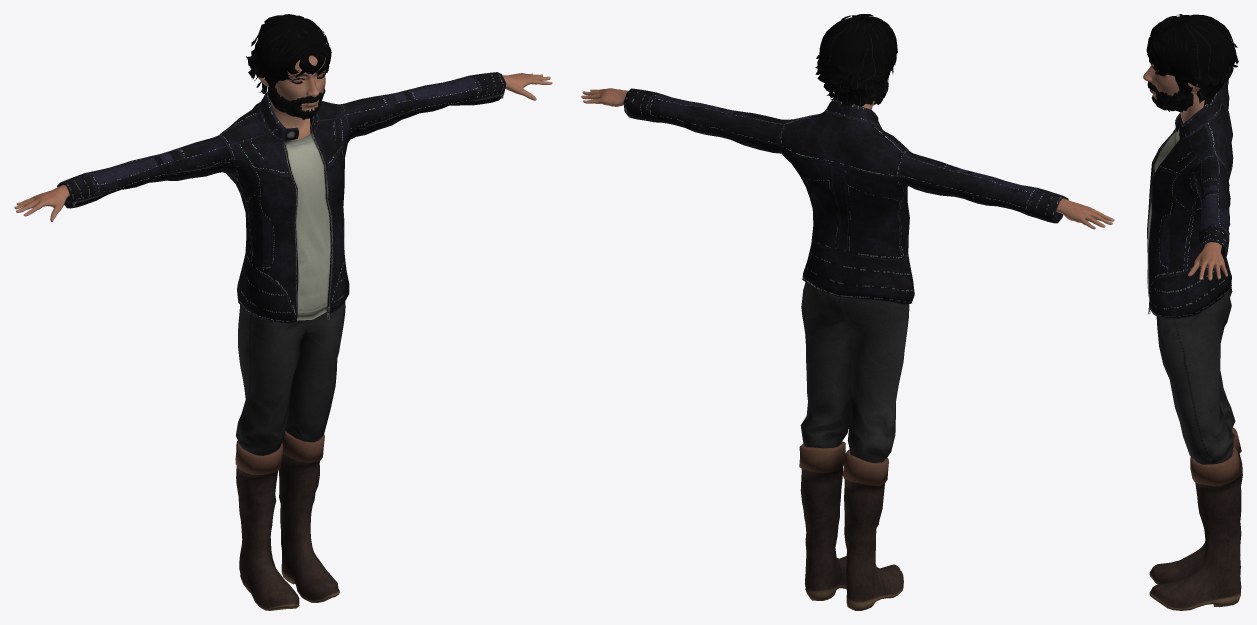
The model's file is Fletcher.obj.
The picture shows the model from 3 angles, left to right: view 1: azimuth 30°, elevation 25°; view 2: azimuth 150°, elevation 25°; view 3: azimuth 270°, elevation 25°; orthographic projection.
Visible parts, largest first — view 1: Tops, Shoes, Bottoms, Hair, Body; view 2: Tops, Bottoms, Shoes, Hair, Body; view 3: Tops, Shoes, Bottoms, Hair, Body, Beards.
Part boxes in pixels (box(x1,y1,x2,y2)): Tops: box(57, 72, 506, 323); Shoes: box(235, 431, 339, 610); Bottoms: box(236, 301, 345, 455); Hair: box(246, 14, 331, 93); Body: box(14, 55, 552, 221); Tops: box(623, 88, 1068, 304); Bottoms: box(800, 282, 909, 462); Shoes: box(799, 441, 903, 610); Hair: box(815, 14, 897, 107); Body: box(581, 77, 1114, 229); Tops: box(1147, 79, 1233, 318); Shoes: box(1149, 427, 1242, 610); Bottoms: box(1156, 287, 1235, 464); Hair: box(1146, 14, 1238, 107); Body: box(1143, 64, 1227, 280); Beards: box(1151, 82, 1193, 112).
Size of the model in its own units: 163 by 169 by 26.46.
Materials: 7 (7 with a texture image).
